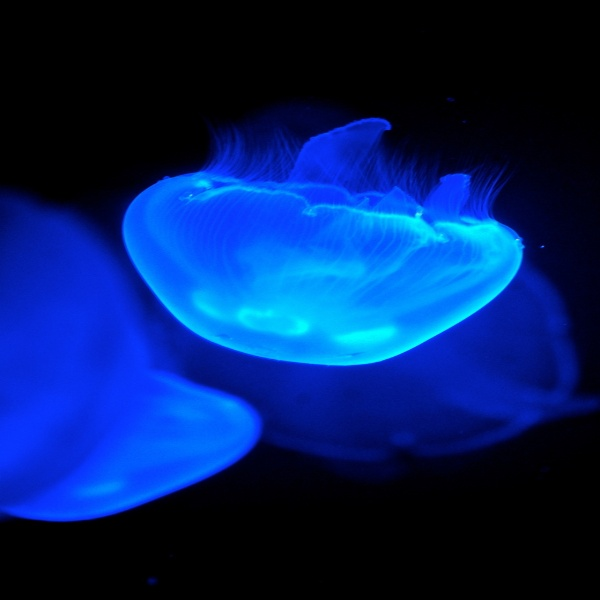Jellyfish: (119, 110, 538, 369), (165, 252, 599, 457), (0, 205, 270, 527)
